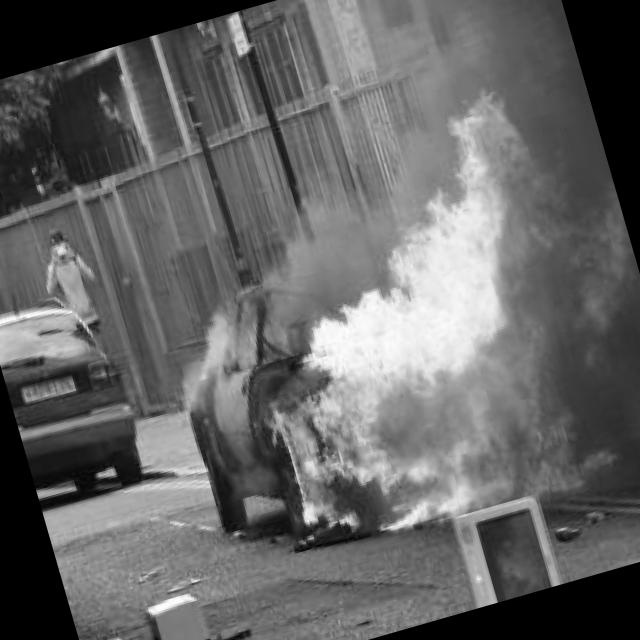fire: (246, 208, 636, 560), (361, 78, 558, 251)
smoke: (212, 140, 402, 300), (146, 280, 261, 425)
